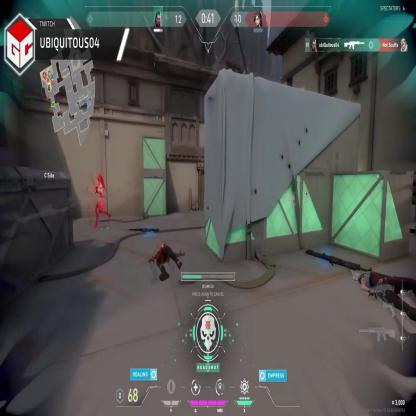enemy: (94, 174, 110, 228)
enemy_head: (96, 176, 101, 186)
